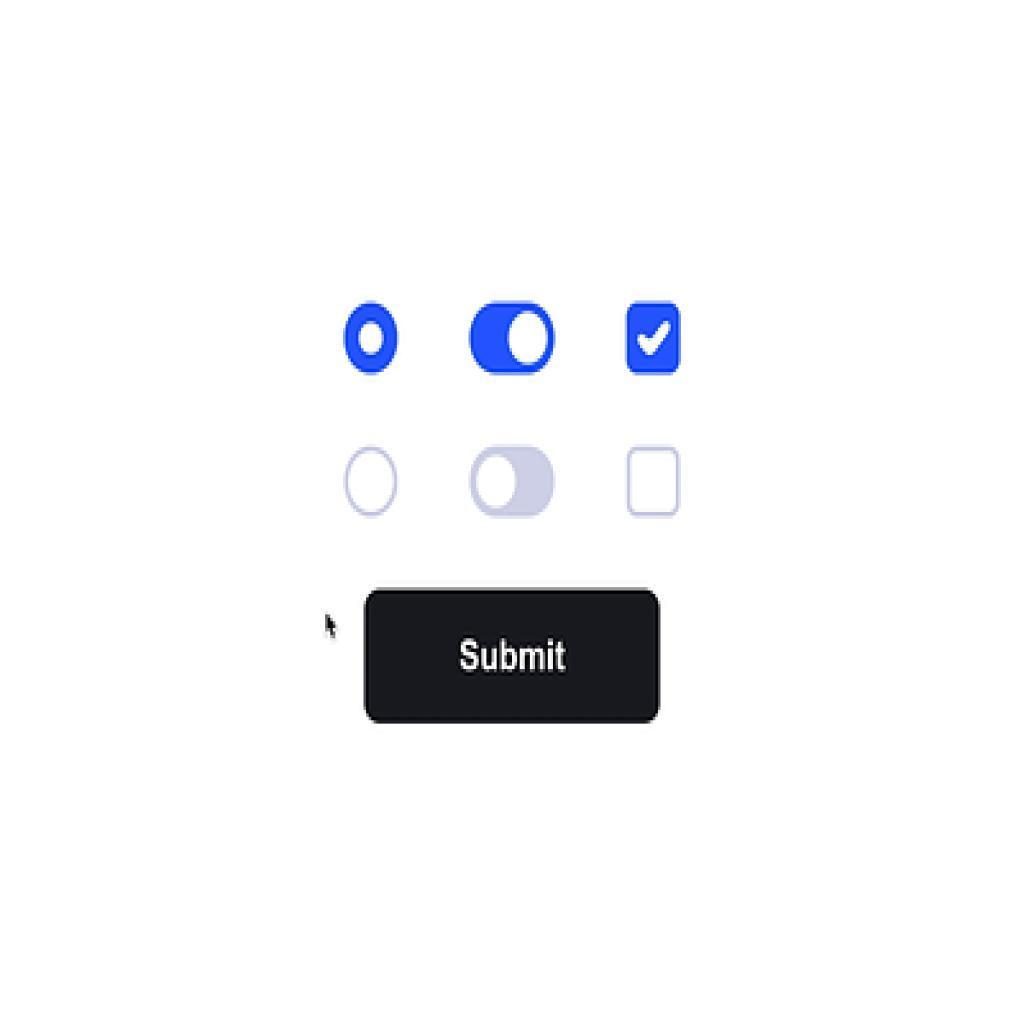button: (365, 593, 665, 723)
checkbox: (627, 305, 681, 374), (629, 449, 682, 514)
radio: (340, 295, 406, 384), (339, 444, 407, 524)
switch: (454, 298, 565, 382), (465, 446, 560, 519)
